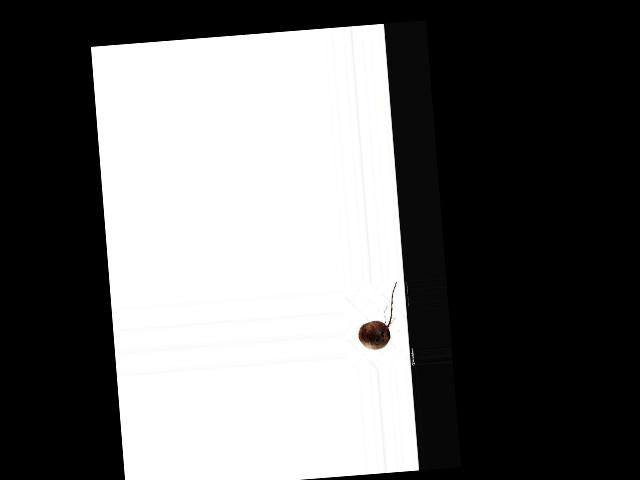beet: (355, 281, 402, 350)
